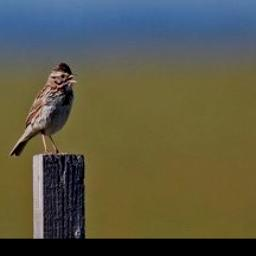Sparrow: (7, 58, 79, 163)
